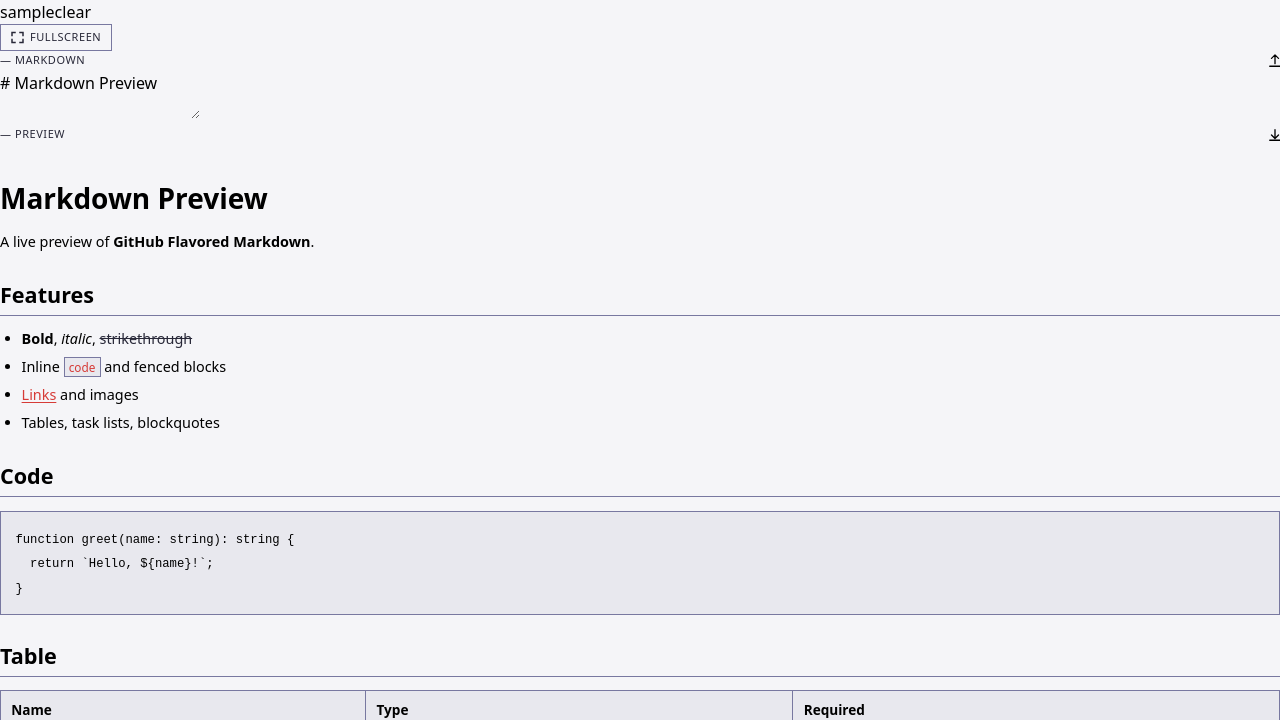
MarkdownPreview › component › empty input shows placeholder text
What coordinates should you click on to do the following:
click the button titled "clear"
I would click on:
 (73, 12)
Its box is x1=55 y1=0 x2=91 y2=24.
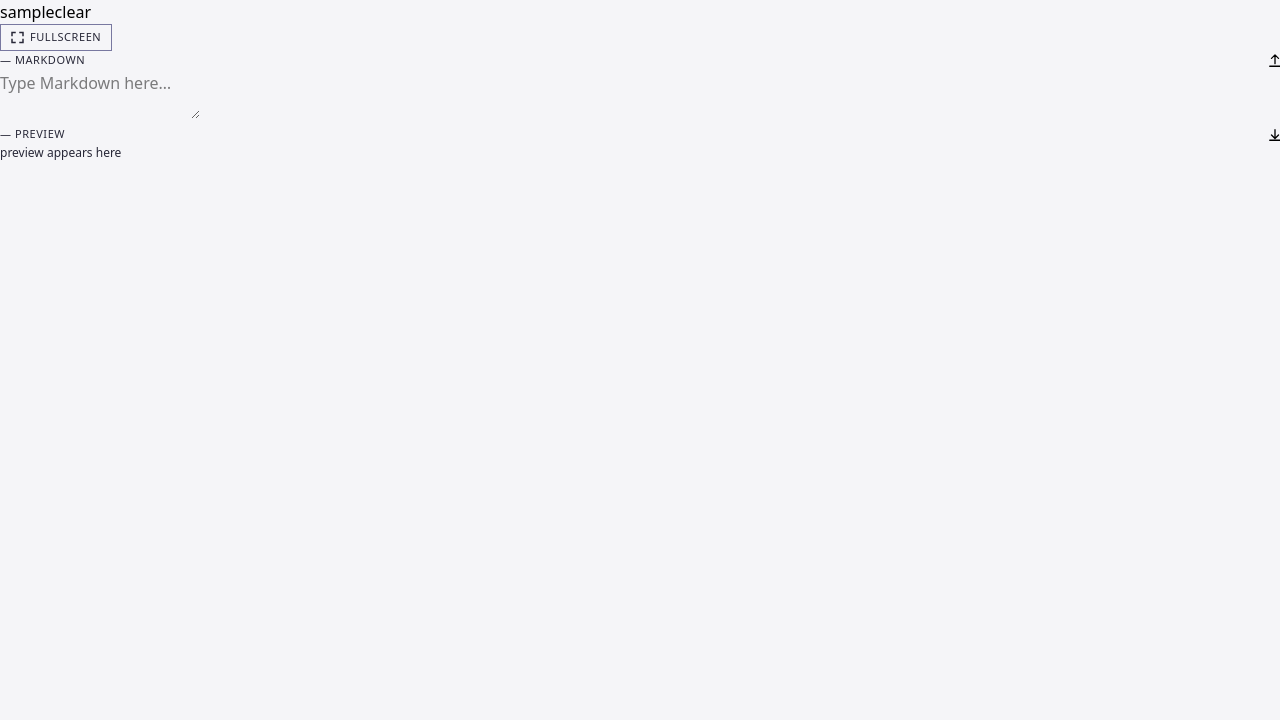
expect the text "preview appears here" is shown: met, box x1=0 y1=144 x2=121 y2=160
